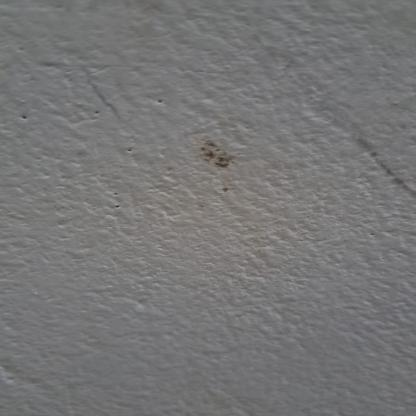spot: (192, 130, 249, 207)
